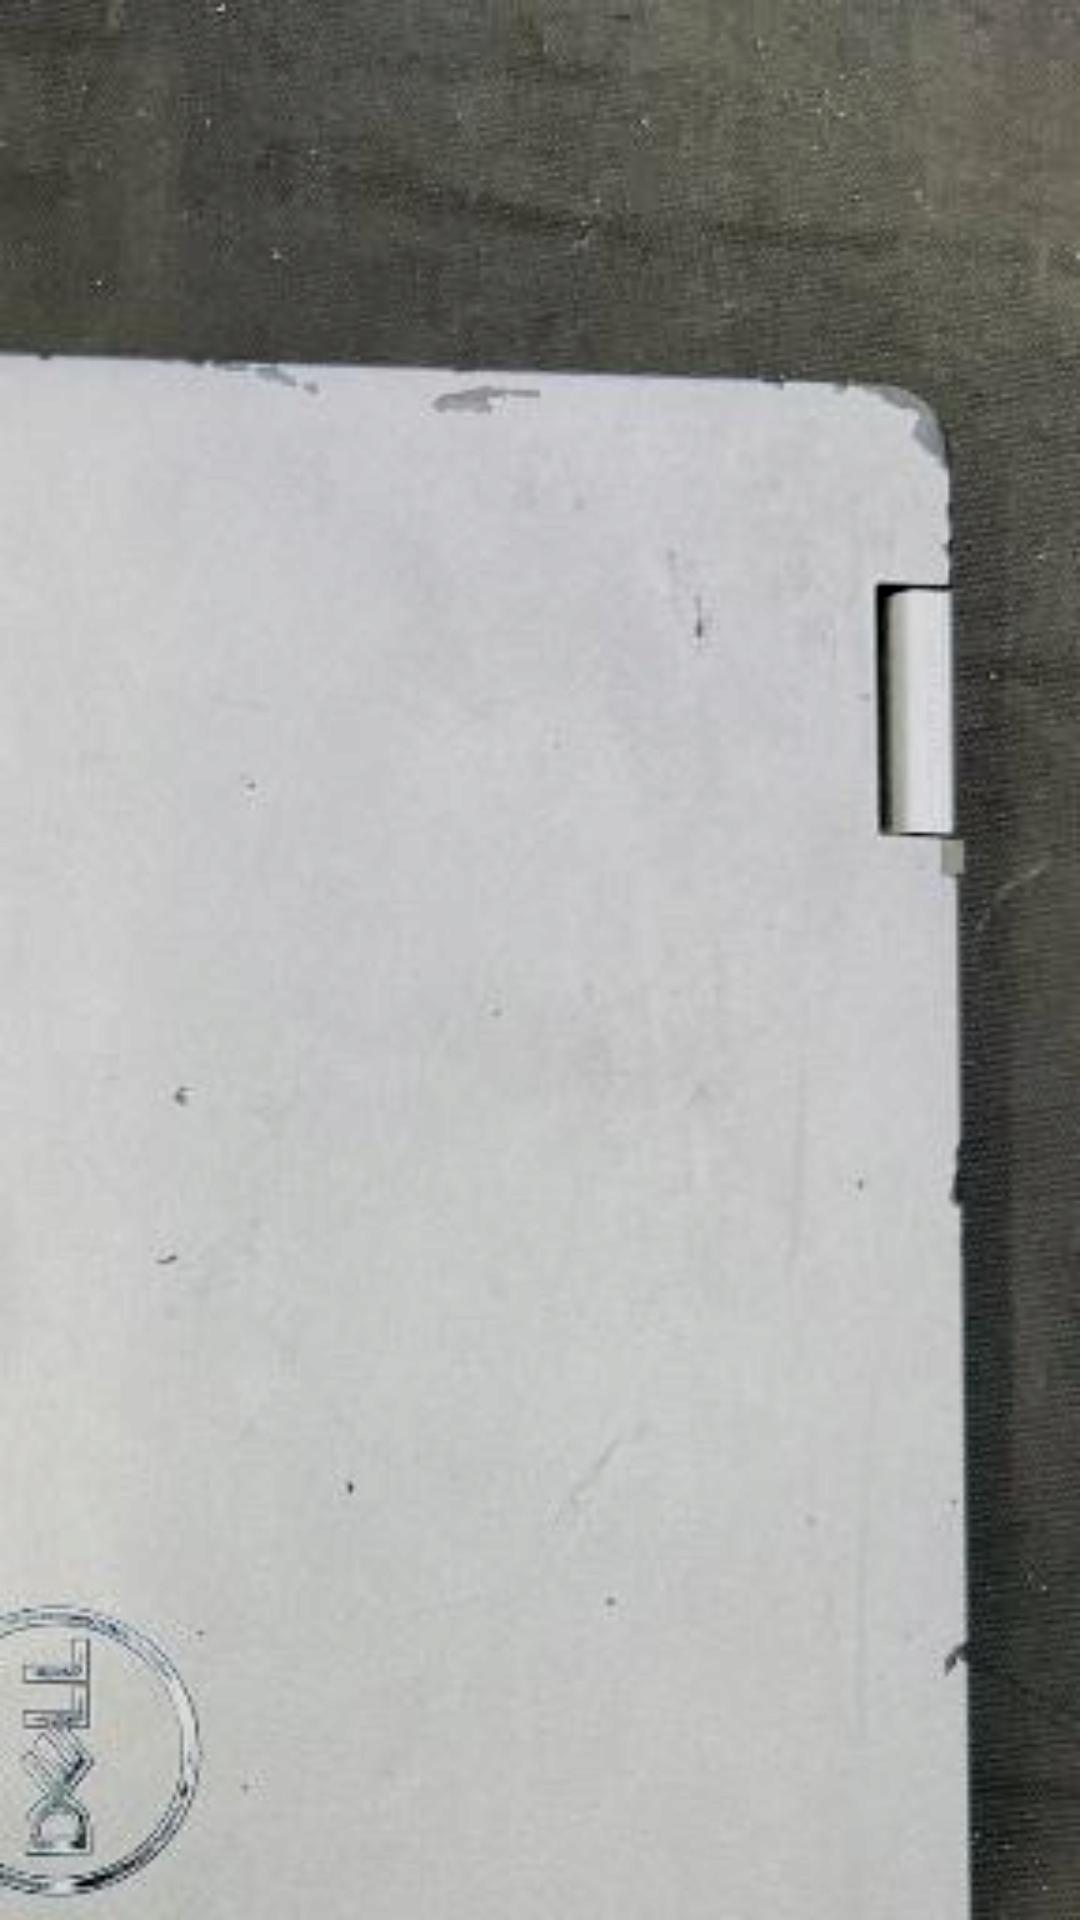chip: (827, 381, 945, 465), (183, 359, 320, 397), (431, 386, 543, 415), (948, 1143, 965, 1208), (943, 1640, 968, 1675), (760, 378, 787, 393), (173, 1084, 189, 1106), (343, 1476, 359, 1495), (940, 539, 953, 562), (243, 778, 262, 793), (853, 1174, 868, 1193), (37, 352, 55, 361)
scratches: (691, 596, 707, 638), (157, 1253, 179, 1267)
